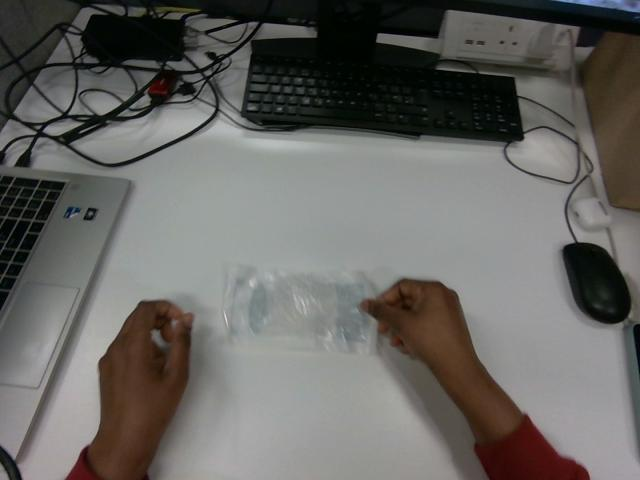gallipot: (223, 266, 376, 353)
